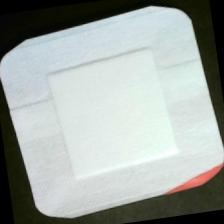Dressing: (1, 1, 224, 224)
Red_T: (150, 154, 224, 202)
